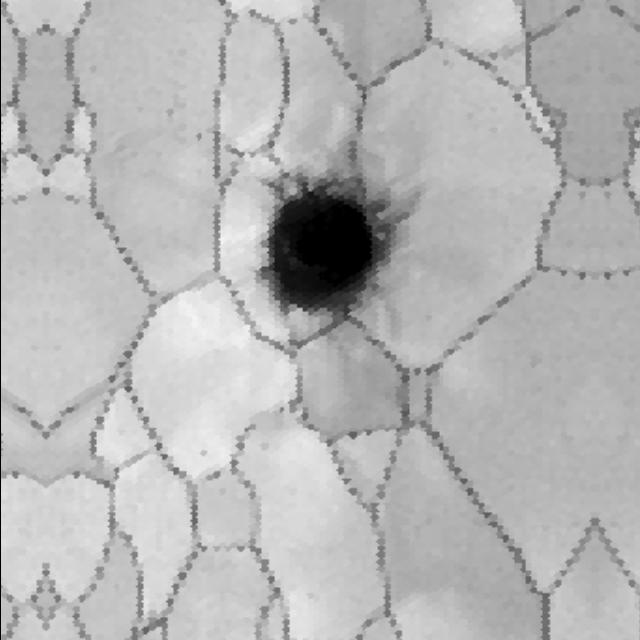good_void: (249, 155, 427, 346), (192, 129, 204, 144), (197, 447, 211, 456)
